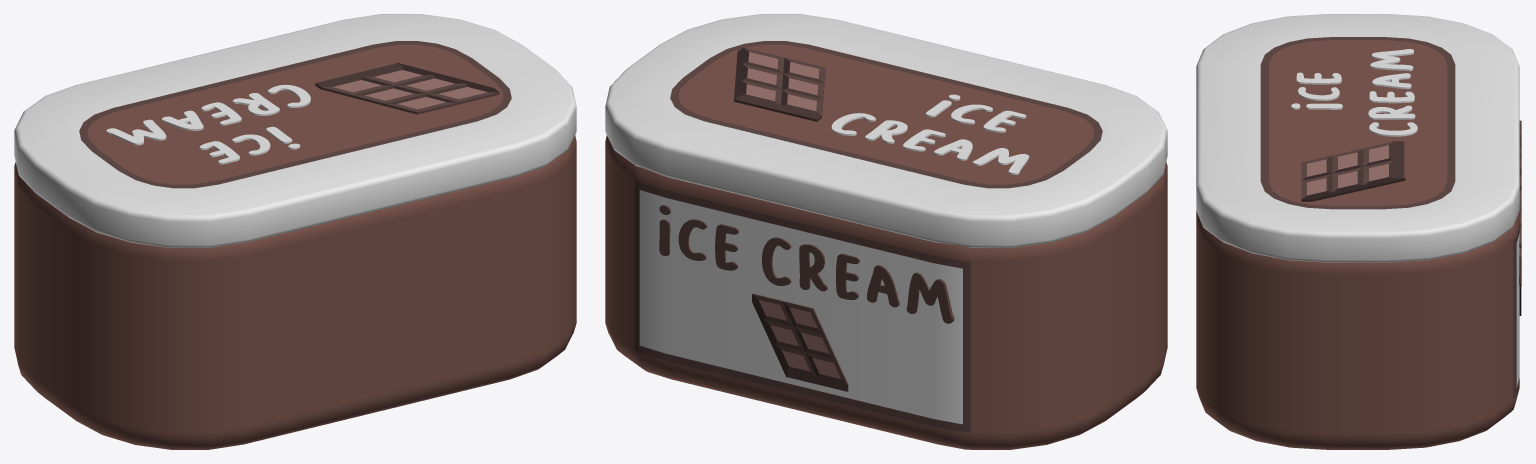
Rendered from lody1.fbx.
The picture shows the model from 3 angles, left to right: view 1: azimuth 30°, elevation 25°; view 2: azimuth 150°, elevation 25°; view 3: azimuth 270°, elevation 25°; orthographic projection. The views are drawn at different scales.
Parts seen in each view (by area): view 1: Cube.049, Cube.050, Plane.002, Text.003; view 2: Cube.049, Cube.050, Text.002, Plane.001, Plane.002, Text.003; view 3: Cube.050, Cube.049, Plane.002, Text.003, Text.002.
Boxes of the visible parts, bbox=[...] form: Cube.049: bbox=[14, 135, 576, 449]; Cube.050: bbox=[14, 14, 576, 247]; Plane.002: bbox=[315, 62, 499, 114]; Text.003: bbox=[106, 84, 310, 164]; Cube.049: bbox=[605, 135, 1167, 449]; Cube.050: bbox=[605, 14, 1167, 247]; Text.002: bbox=[659, 205, 954, 323]; Plane.001: bbox=[752, 293, 848, 391]; Plane.002: bbox=[734, 47, 825, 121]; Text.003: bbox=[831, 94, 1029, 174]; Cube.050: bbox=[1196, 14, 1519, 262]; Cube.049: bbox=[1196, 211, 1519, 449]; Plane.002: bbox=[1301, 141, 1405, 201]; Text.003: bbox=[1291, 49, 1417, 136]; Text.002: bbox=[1519, 120, 1521, 285].
Bounding box in the file's own units: 324 × 154 × 201.
